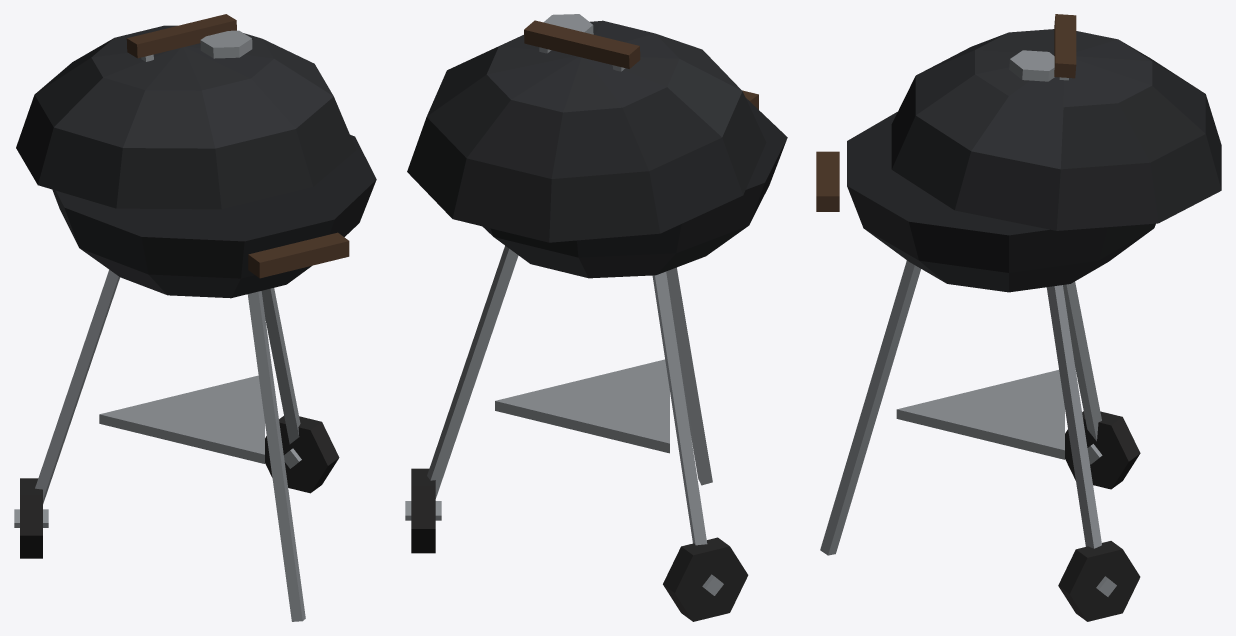
File: charcoal_grill.glb
The picture shows the model from 3 angles, left to right: view 1: azimuth 30°, elevation 25°; view 2: azimuth 150°, elevation 25°; view 3: azimuth 270°, elevation 25°; orthographic projection. The views are drawn at different scales.
Parts seen in each view (by area): view 1: charcoal_grill; view 2: charcoal_grill; view 3: charcoal_grill.
Part boxes in pixels (bbox=[...]): charcoal_grill: bbox=[14, 14, 376, 621]; charcoal_grill: bbox=[405, 14, 787, 621]; charcoal_grill: bbox=[816, 14, 1221, 621].
Size of the model in its own units: 0.6416 by 0.9746 by 0.6946.
